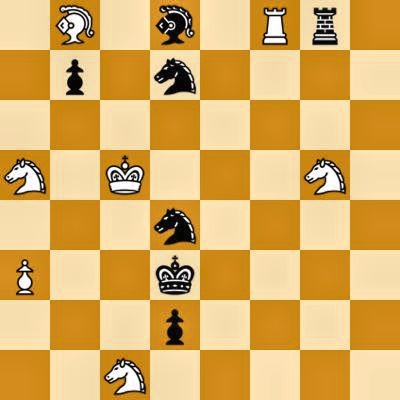black-bishop: (150, 0, 200, 50)
black-king: (150, 250, 200, 300)
black-knight: (150, 50, 200, 100), (150, 200, 200, 250)
black-pawn: (50, 50, 100, 100), (150, 300, 200, 350)
black-rook: (300, 0, 350, 50)
white-bishop: (50, 0, 100, 50)
white-king: (100, 150, 150, 200)
white-knight: (0, 150, 50, 200), (300, 150, 350, 200), (100, 350, 150, 400)
white-pawn: (0, 250, 50, 300)
white-rook: (250, 0, 300, 50)
